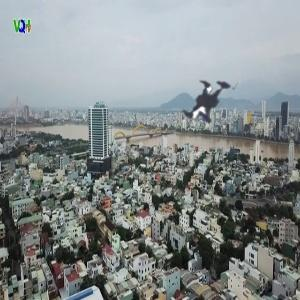drone: (156, 50, 262, 156)
